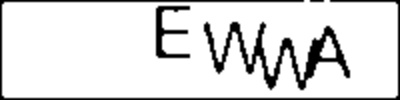A: (306, 24, 354, 81)
E: (154, 1, 195, 63)
W: (256, 32, 321, 95), (198, 19, 268, 77)
